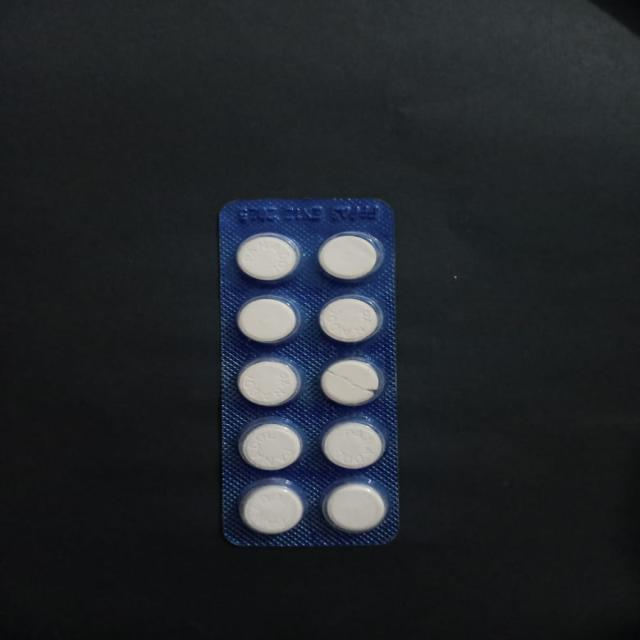defect: (316, 354, 388, 408)
